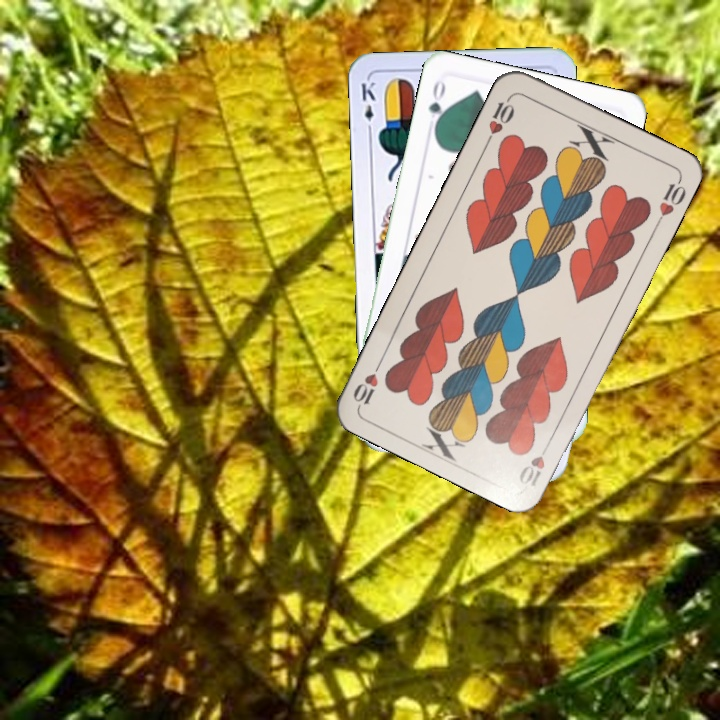EK: (357, 77, 378, 137)
GO: (424, 76, 449, 135)
H10: (514, 435, 555, 489), (482, 92, 517, 147)
